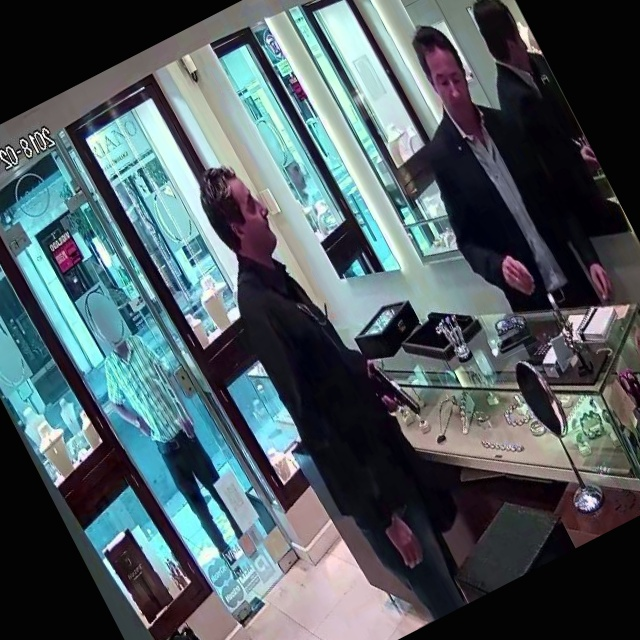gun: (350, 345, 436, 444)
